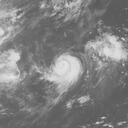cyclone: (44, 51, 84, 92)
